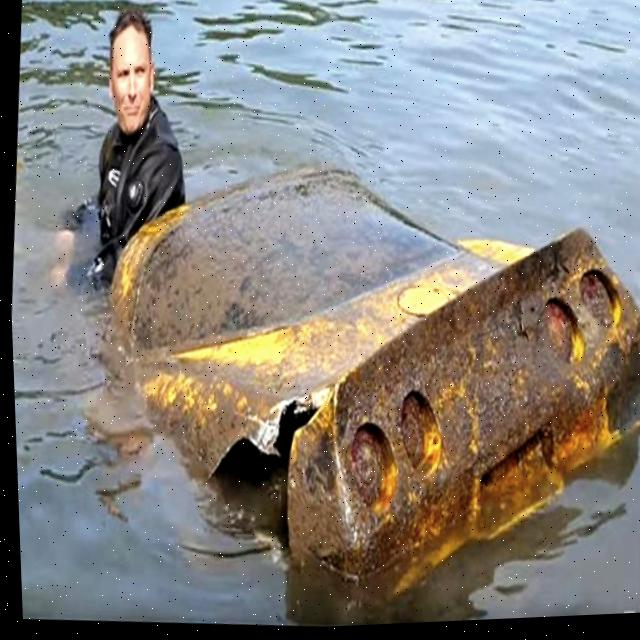civilian: (27, 0, 208, 308)
